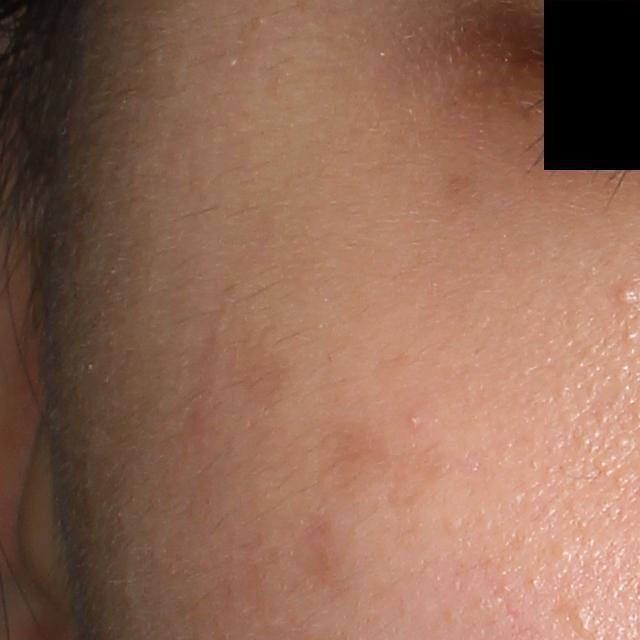comedo: (575, 608, 595, 634), (404, 415, 423, 428)
melasma: (312, 416, 394, 503), (222, 336, 295, 421), (290, 510, 352, 595), (440, 166, 487, 229)
